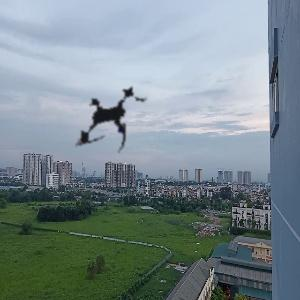drone: (36, 43, 185, 192)
